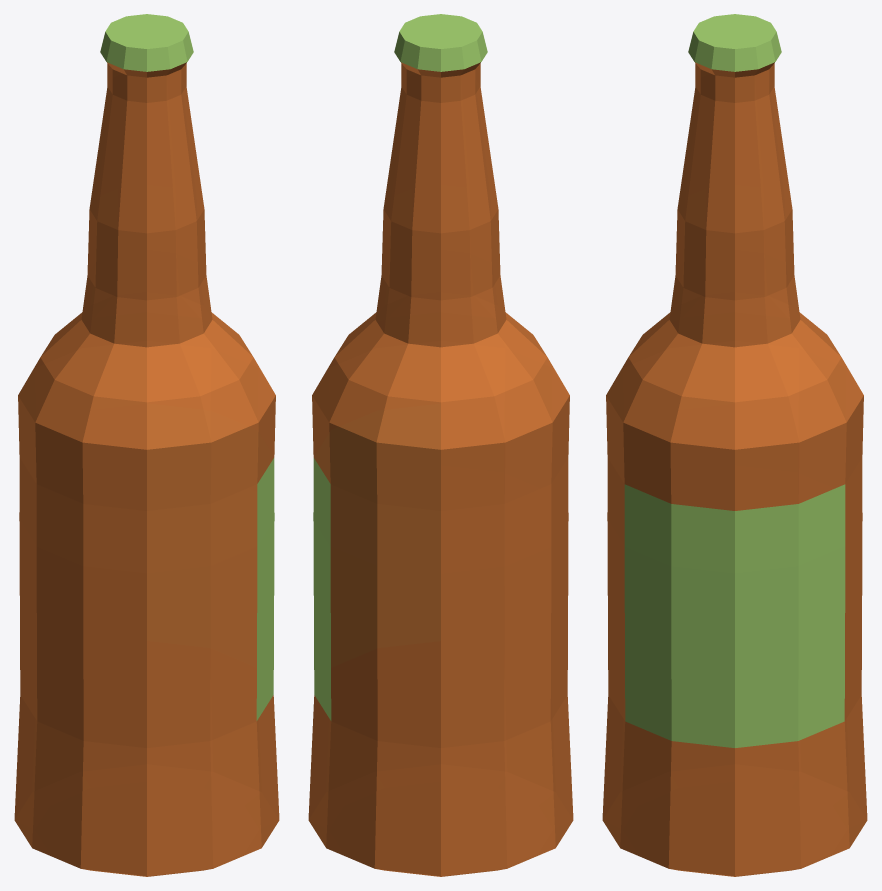
Rendered from Drink.gltf.
3 views of the same model, side by side, from view 1: azimuth 30°, elevation 25°; view 2: azimuth 150°, elevation 25°; view 3: azimuth 270°, elevation 25° (orthographic).
Size of the model in its own units: 1.84 by 6.12 by 1.84.
